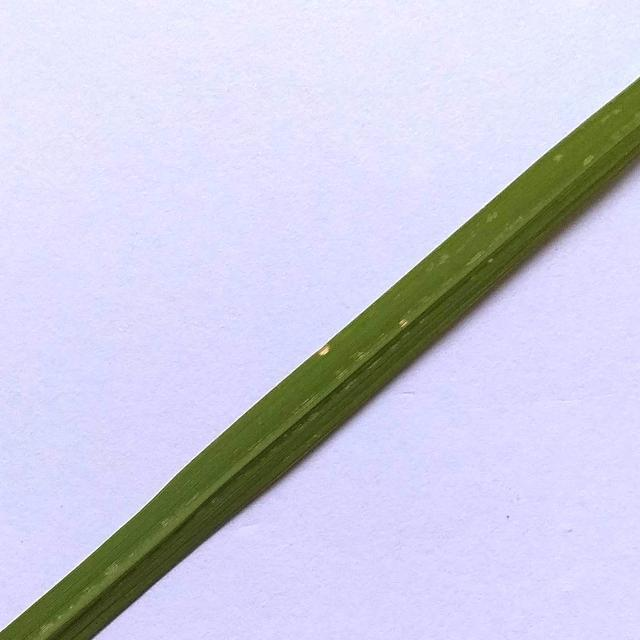Blast: (396, 322, 419, 332), (316, 349, 332, 352)
